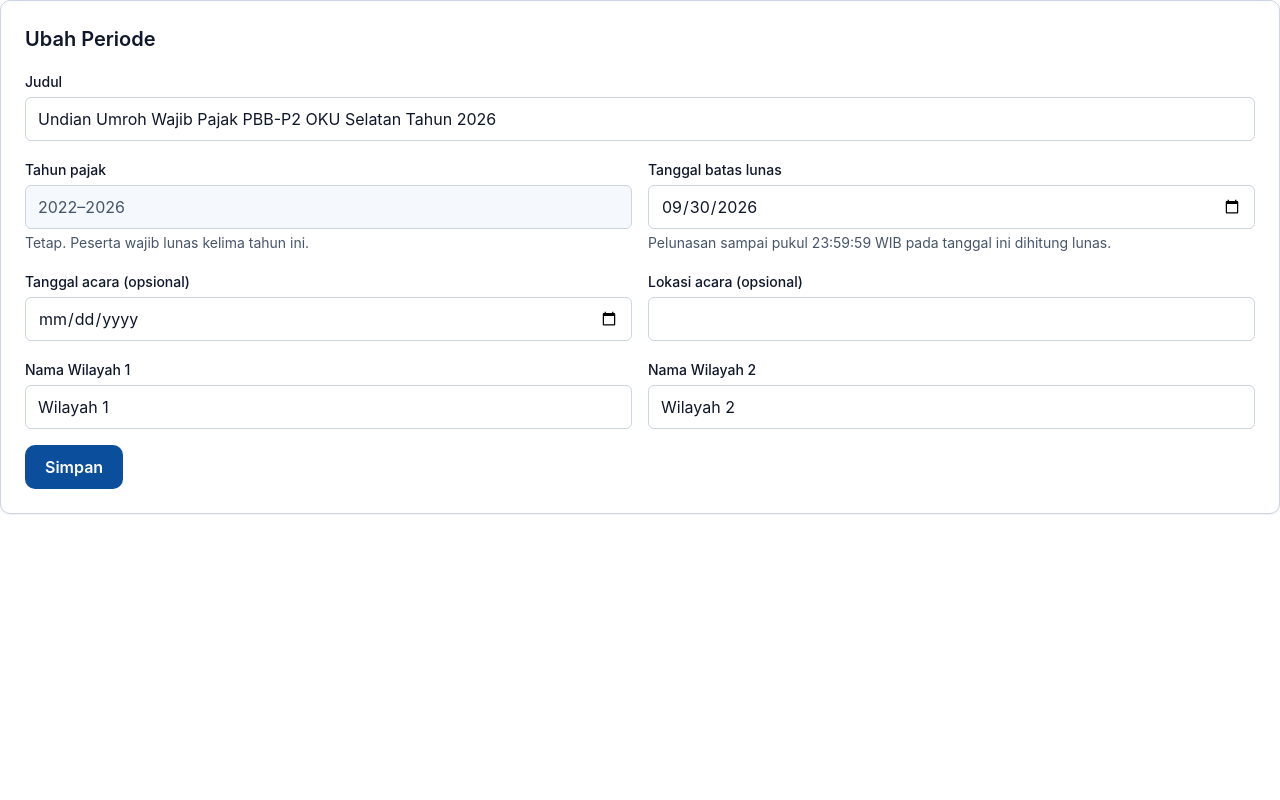
FormPeriode mode ubah › tanpa perubahan tidak memanggil API
Click the button "Simpan" at point(74, 467), box x1=25 y1=445 x2=123 y2=489
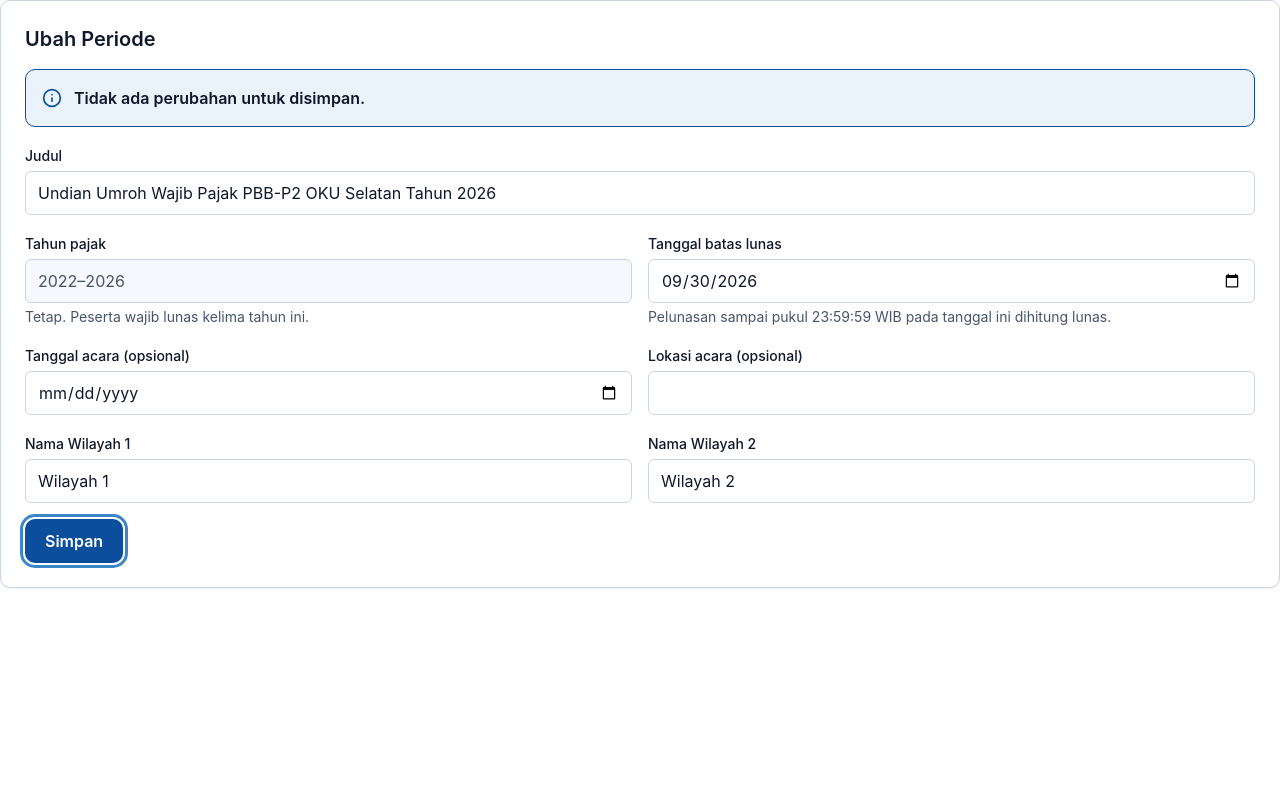
Expected: the text "Tidak ada perubahan untuk disimpan." is shown, x1=74 y1=86 x2=365 y2=110
